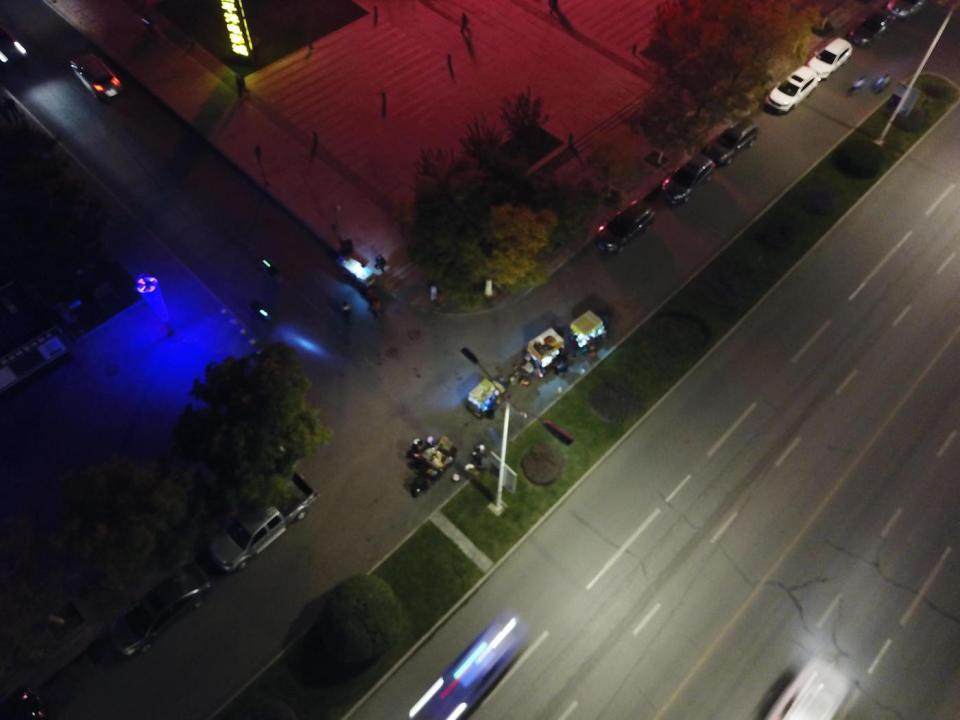car: (408, 612, 533, 719), (110, 562, 212, 658), (593, 200, 656, 253), (662, 153, 714, 205), (69, 52, 122, 102), (764, 66, 818, 114), (707, 116, 759, 164), (806, 38, 852, 80), (847, 8, 895, 48), (0, 28, 29, 64), (887, 1, 931, 18)
truck: (209, 468, 320, 574)
